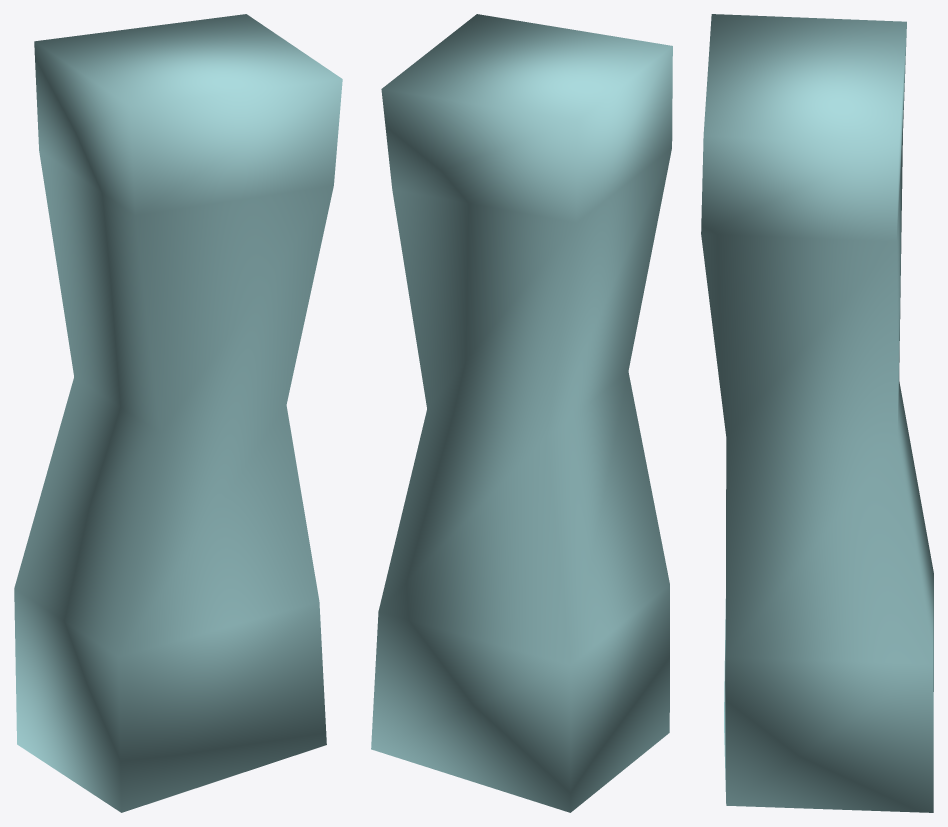
The model's file is Skelly_f_ring.01.L.fbx.
3 renders of one model, left to right at view 1: azimuth 30°, elevation 25°; view 2: azimuth 150°, elevation 25°; view 3: azimuth 270°, elevation 25°, orthographic. The views are drawn at different scales.
Parts seen in each view (by area): view 1: Skelly_f_ring.01.L; view 2: Skelly_f_ring.01.L; view 3: Skelly_f_ring.01.L.
Boxes of the visible parts, x1=… form: Skelly_f_ring.01.L: x1=14, y1=14, x2=342, y2=812; Skelly_f_ring.01.L: x1=371, y1=14, x2=672, y2=812; Skelly_f_ring.01.L: x1=701, y1=14, x2=933, y2=812.
Size of the model in its own units: 1.51 by 4.83 by 1.42.
